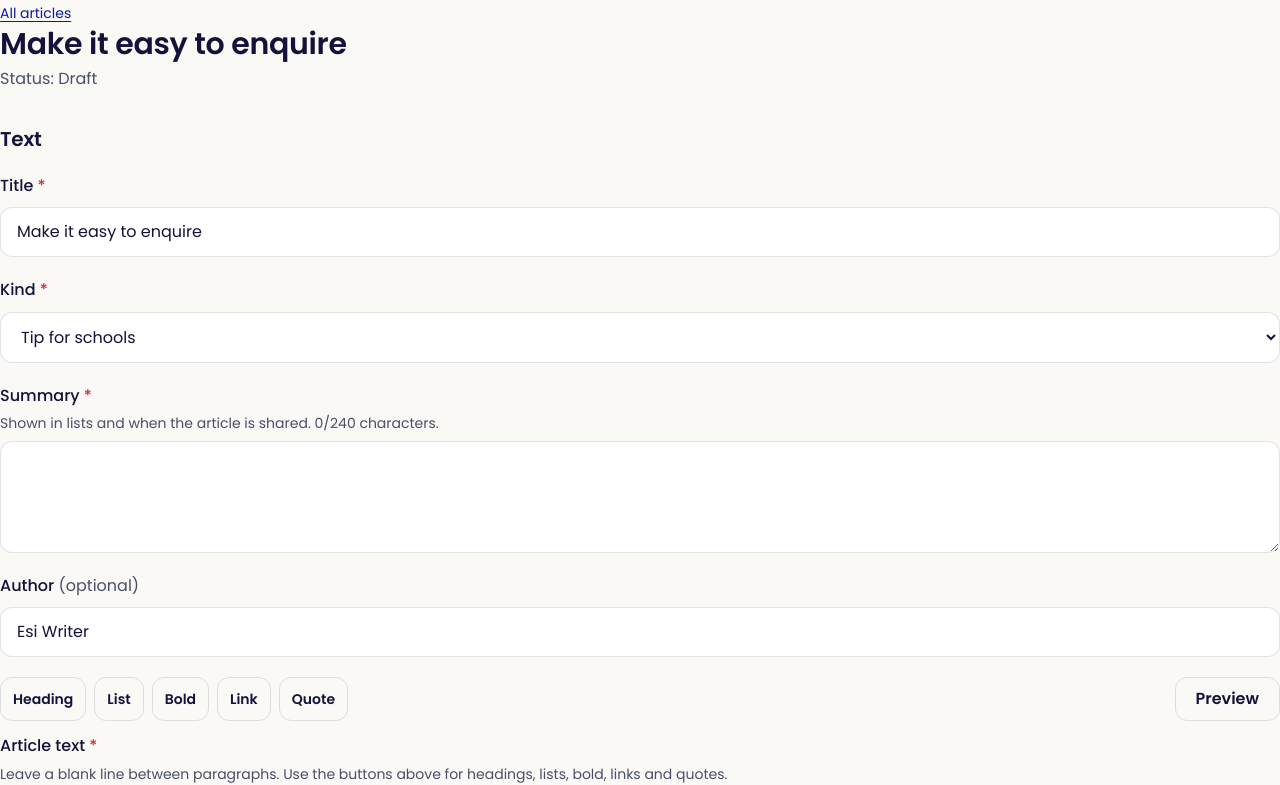
it: ArticleEditor › formats the selected words with the toolbar
The width and height of the screenshot is (1280, 785).
Click the button "Bold" at (180, 699), box [152, 677, 209, 721]
(page scrolled)
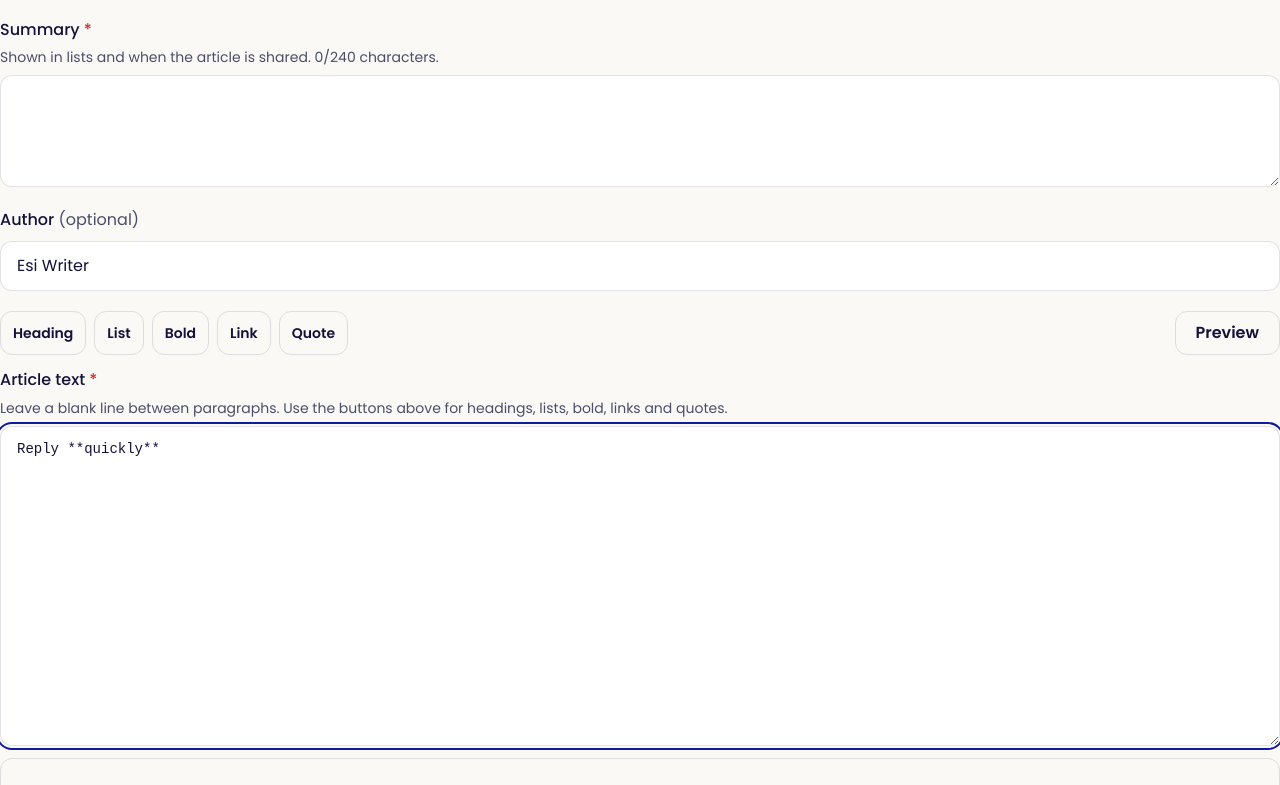
Expected: the text box labelled "Article text *" holds "Reply **quickly**", [0, 426, 1279, 746]
